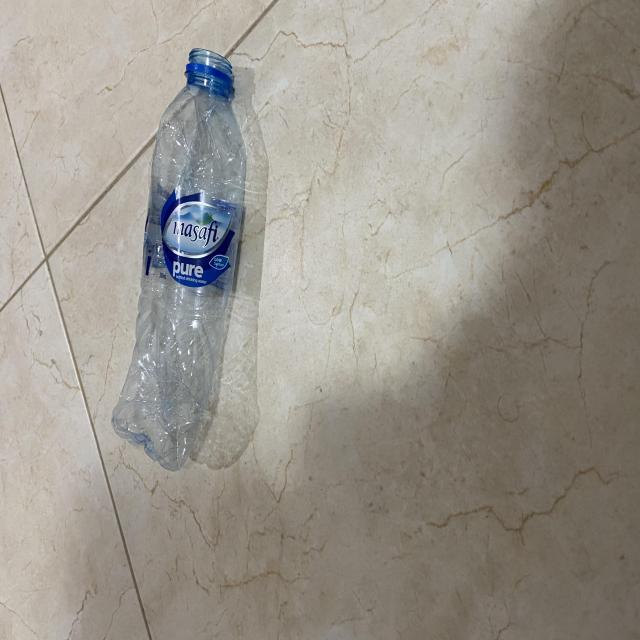plastic: (110, 36, 250, 473)
